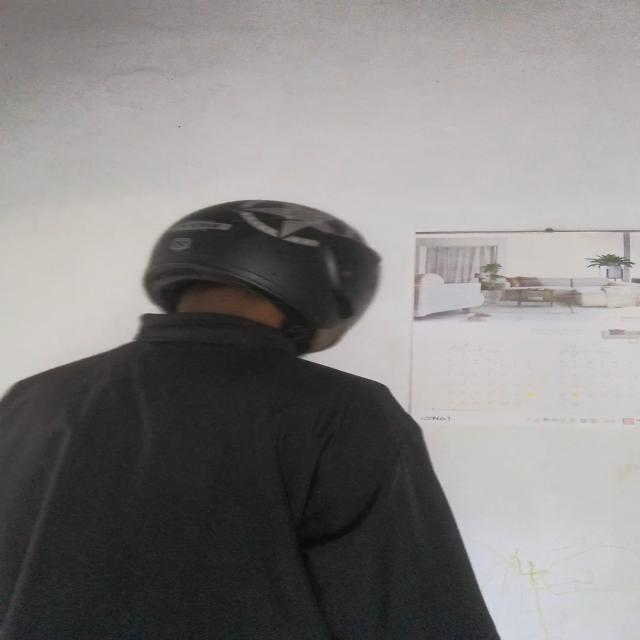Helmet_Wearer: (132, 187, 398, 374)
Jacket_Wearer: (4, 289, 529, 640)
Person: (0, 192, 517, 628)
